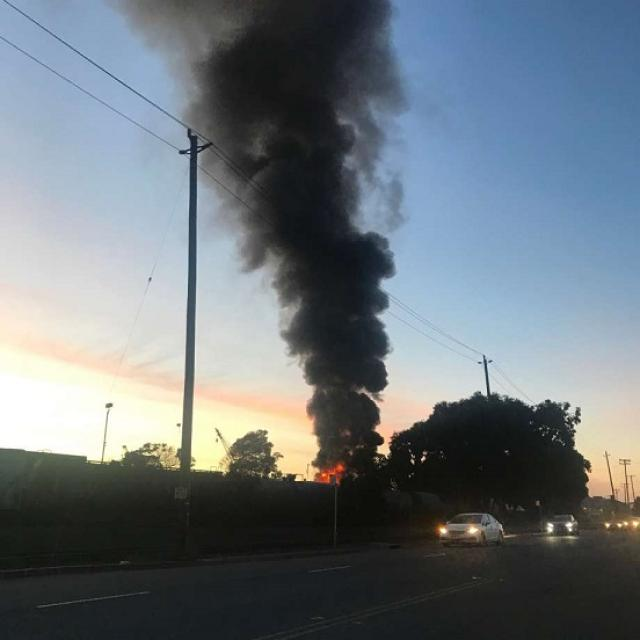smoke: (220, 1, 362, 249), (296, 255, 375, 445)
